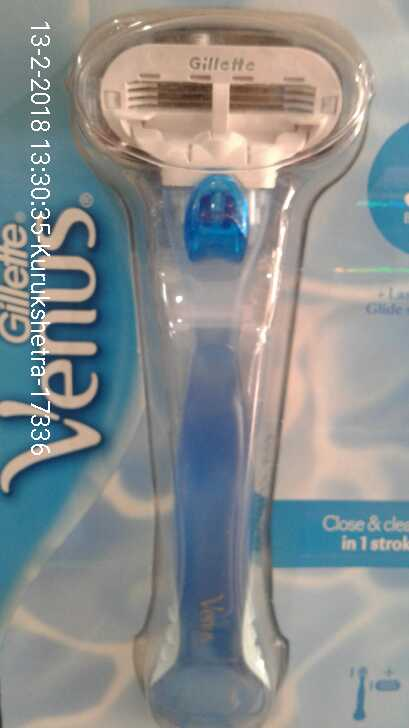venus: (58, 5, 369, 712)
